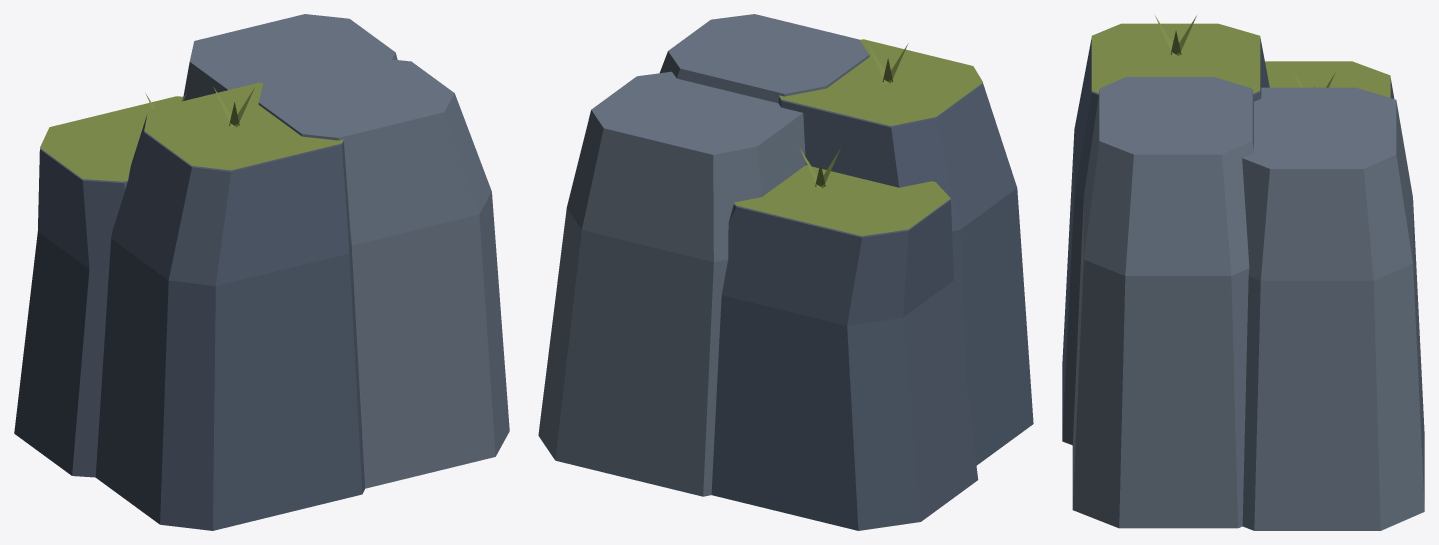
The model's file is RockCluster1.glb.
3 renders of one model, left to right at view 1: azimuth 30°, elevation 25°; view 2: azimuth 150°, elevation 25°; view 3: azimuth 270°, elevation 25°, orthographic. The views are drawn at different scales.
Visible parts, largest first — view 1: Faceted cliff column, Faceted cliff column.001, Faceted cliff column.002, Faceted cliff column.003, Grassy cliff cap, Grassy cliff cap.001; view 2: Faceted cliff column.002, Faceted cliff column.003, Faceted cliff column, Faceted cliff column.001, Grassy cliff cap, Grassy cliff cap.001; view 3: Faceted cliff column.003, Faceted cliff column.001, Grassy cliff cap, Faceted cliff column, Grassy cliff cap.001.
Boxes of the visible parts, box(x1,y1,x2,y2) form: Faceted cliff column: box(95, 114, 364, 530); Faceted cliff column.001: box(258, 57, 509, 488); Faceted cliff column.002: box(14, 148, 127, 477); Faceted cliff column.003: box(183, 14, 397, 100); Grassy cliff cap: box(144, 82, 343, 170); Grassy cliff cap.001: box(40, 96, 183, 181); Faceted cliff column.002: box(711, 199, 978, 530); Faceted cliff column.003: box(538, 71, 805, 496); Faceted cliff column: box(778, 83, 1033, 465); Faceted cliff column.001: box(659, 14, 869, 103); Grassy cliff cap: box(779, 39, 982, 125); Grassy cliff cap.001: box(734, 165, 950, 236); Faceted cliff column.003: box(1242, 87, 1424, 530); Faceted cliff column.001: box(1072, 77, 1253, 528); Grassy cliff cap: box(1091, 23, 1260, 93); Faceted cliff column: box(1062, 38, 1269, 445); Grassy cliff cap.001: box(1265, 61, 1390, 97).
Size of the model in its own units: 8.02 by 7.68 by 6.53.
